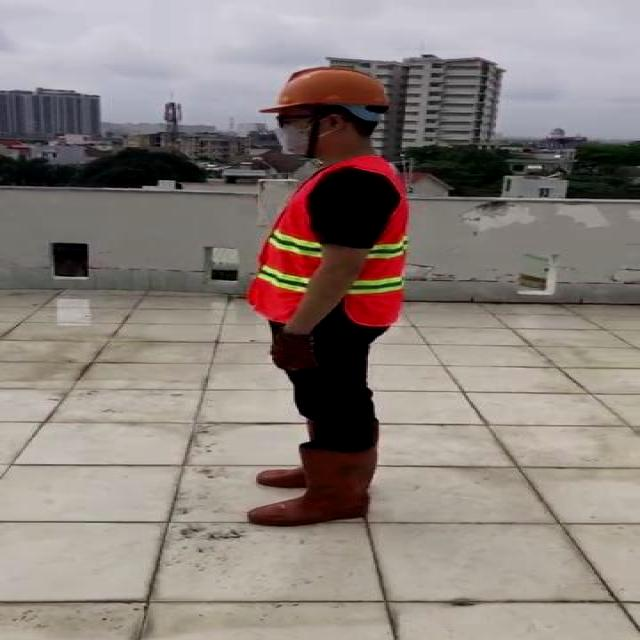boots: (249, 445, 375, 527)
face_mask: (267, 106, 327, 157)
hand_glove: (265, 333, 316, 375)
head_helmet: (251, 64, 393, 115)
person: (216, 61, 426, 534)
vest: (246, 153, 404, 325)
